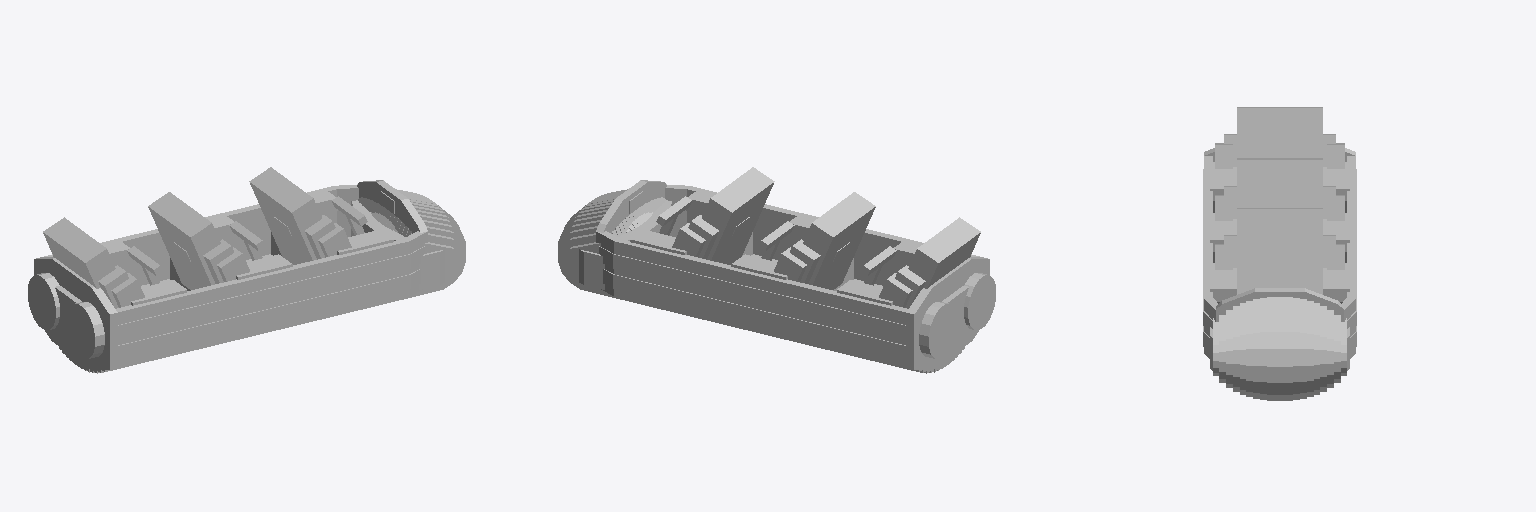
3 views of the same model, side by side, from view 1: azimuth 30°, elevation 25°; view 2: azimuth 150°, elevation 25°; view 3: azimuth 270°, elevation 25° (orthographic).
Visible parts, largest first — view 1: hexadecagon, cube; view 2: hexadecagon, cube; view 3: cube, hexadecagon.
Part boxes in pixels (x1,y1,x2,y2): hexadecagon: (28, 180, 465, 373); cube: (43, 167, 393, 308); hexadecagon: (558, 180, 995, 373); cube: (630, 167, 980, 308); cube: (1210, 107, 1349, 303); hexadecagon: (1203, 148, 1356, 400).
Size of the model in its own units: 39.95 by 12.67 by 13.66.